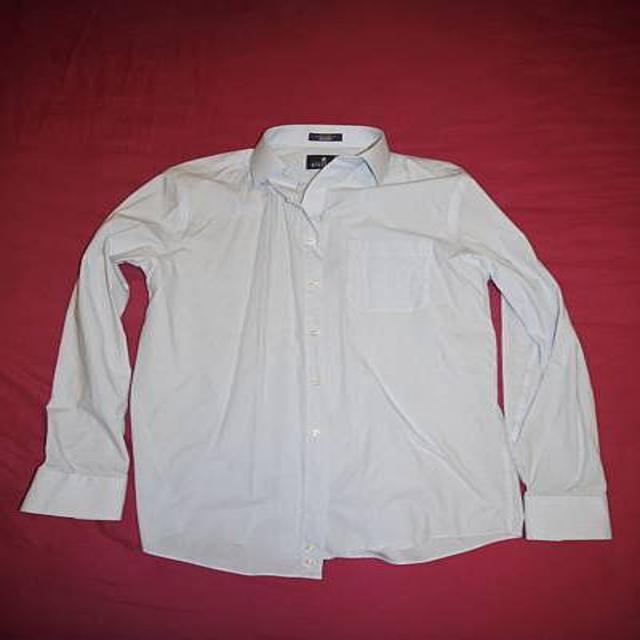SHIRT: (12, 119, 623, 584)
